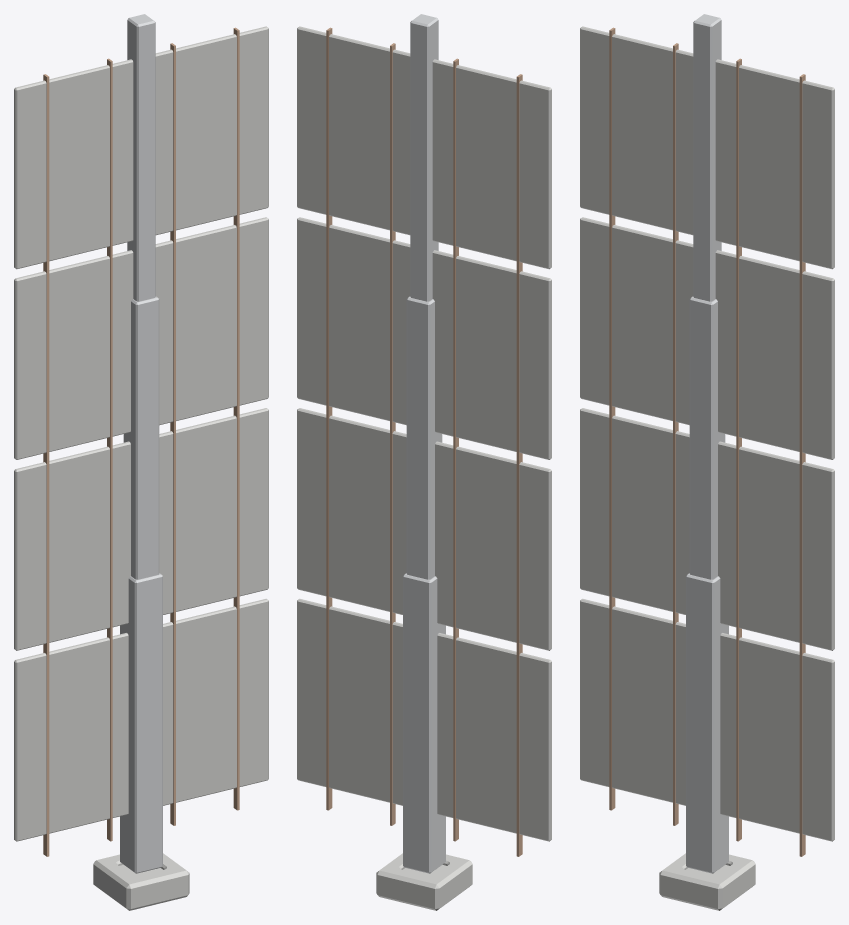
The model's file is ax_power_09_heat_pipe_boom_m_deployed.glb.
The picture shows the model from 3 angles, left to right: view 1: azimuth 30°, elevation 25°; view 2: azimuth 150°, elevation 25°; view 3: azimuth 330°, elevation 25°; orthographic projection.
Parts seen in each view (by area): view 1: panel_4, panel_3, panel_2, panel_1, boom, heat_pipes, mount_block; view 2: panel_4, panel_3, panel_2, panel_1, boom, heat_pipes, mount_block; view 3: panel_4, panel_3, panel_2, panel_1, boom, heat_pipes, mount_block.
Boxes of the visible parts, bbox=[...] form: panel_4: bbox=[14, 26, 268, 269]; panel_3: bbox=[14, 217, 268, 459]; panel_2: bbox=[14, 408, 268, 650]; panel_1: bbox=[14, 598, 268, 841]; boom: bbox=[120, 14, 162, 873]; heat_pipes: bbox=[43, 27, 239, 856]; mount_block: bbox=[93, 853, 189, 910]; panel_4: bbox=[297, 26, 551, 269]; panel_3: bbox=[297, 217, 551, 459]; panel_2: bbox=[297, 408, 551, 650]; panel_1: bbox=[297, 598, 551, 841]; boom: bbox=[403, 14, 445, 873]; heat_pipes: bbox=[326, 27, 522, 856]; mount_block: bbox=[376, 853, 472, 910]; panel_4: bbox=[580, 26, 834, 269]; panel_3: bbox=[580, 217, 834, 459]; panel_2: bbox=[580, 408, 834, 650]; panel_1: bbox=[580, 598, 834, 841]; boom: bbox=[686, 14, 728, 873]; heat_pipes: bbox=[609, 27, 805, 856]; mount_block: bbox=[659, 853, 755, 910].
Bounding box in the file's own units: 1.6 × 5.26 × 0.4.
